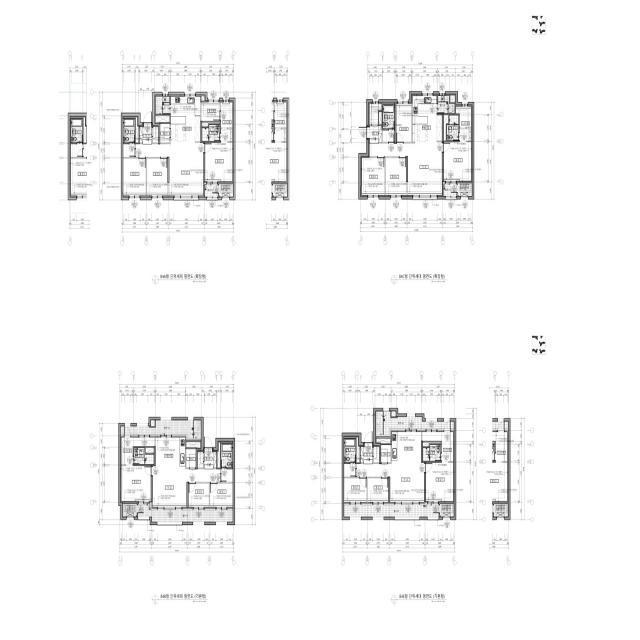space_balconi: (376, 411, 454, 435), (138, 505, 233, 522), (121, 420, 201, 438), (344, 504, 439, 517), (438, 96, 455, 113), (156, 96, 170, 114), (205, 184, 218, 197), (444, 184, 457, 196)
space_bedroom: (205, 129, 232, 182), (444, 142, 471, 181), (121, 466, 151, 501), (426, 463, 453, 501), (123, 158, 146, 196), (362, 158, 385, 195), (147, 158, 168, 196), (386, 158, 406, 195), (210, 483, 233, 507), (344, 478, 367, 502), (188, 483, 209, 507), (368, 478, 388, 502)
space_dressroom: (121, 437, 155, 466), (422, 432, 453, 461), (456, 107, 471, 127), (221, 102, 232, 128)
space_front: (361, 447, 379, 463), (204, 452, 216, 469), (370, 126, 382, 143), (140, 127, 152, 144)
space_kitchen: (412, 96, 442, 142), (171, 96, 200, 142), (392, 432, 421, 463), (156, 437, 185, 467)
space_living_room: (370, 142, 442, 195), (136, 143, 203, 196), (153, 466, 220, 507), (357, 463, 424, 502)
space_other: (396, 104, 411, 142), (201, 102, 220, 121), (370, 104, 382, 125), (186, 449, 196, 468), (160, 124, 170, 143), (381, 445, 391, 462), (221, 469, 233, 482), (123, 144, 135, 157), (344, 464, 355, 477), (460, 128, 471, 141), (383, 130, 394, 142), (444, 115, 448, 141), (156, 116, 170, 123), (423, 442, 441, 447), (202, 122, 220, 127), (186, 442, 200, 448), (198, 452, 203, 468), (153, 127, 158, 143), (217, 442, 220, 468), (357, 437, 360, 463), (136, 117, 139, 143), (377, 438, 390, 443), (146, 448, 154, 453), (379, 112, 382, 124), (450, 96, 455, 102), (391, 411, 396, 416), (151, 420, 155, 426), (201, 96, 204, 101)
space_outdoor_room: (123, 504, 137, 517), (440, 504, 454, 517), (219, 184, 233, 197), (458, 183, 472, 196)
space_toilet: (134, 448, 154, 464), (423, 445, 441, 461), (123, 119, 135, 143), (202, 125, 220, 141), (447, 115, 458, 141), (344, 439, 356, 462), (221, 444, 232, 468), (383, 105, 394, 129)
